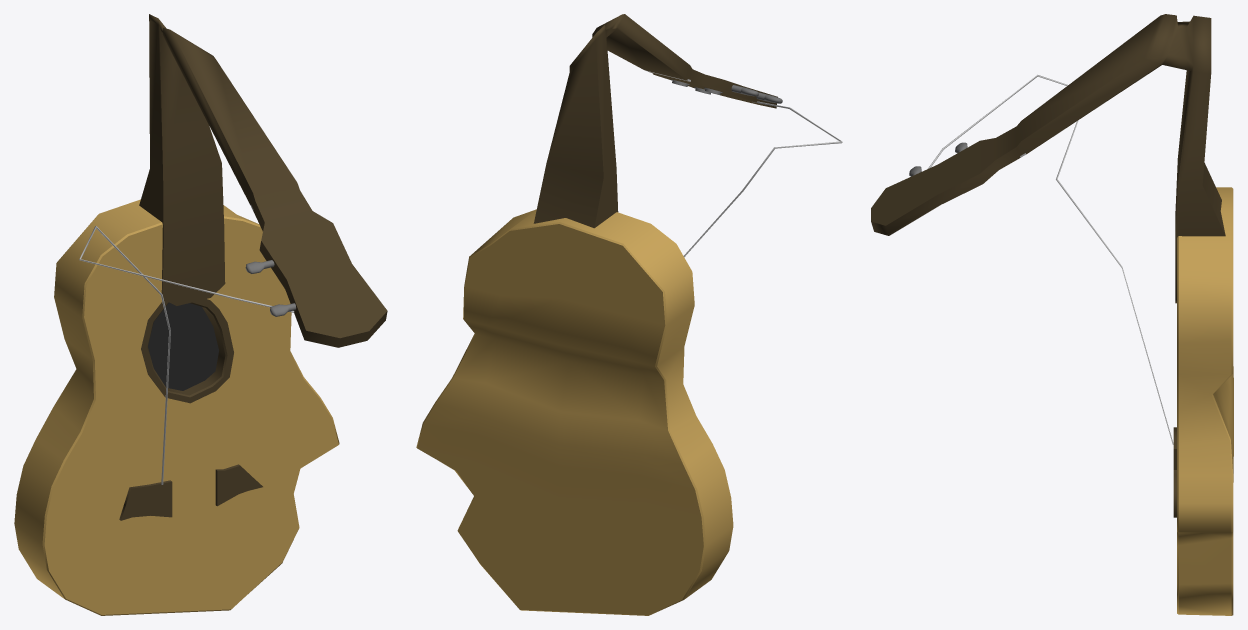
Rendered from Ukulele_Ruim.fbx.
The picture shows the model from 3 angles, left to right: view 1: azimuth 30°, elevation 25°; view 2: azimuth 150°, elevation 25°; view 3: azimuth 270°, elevation 25°; orthographic projection. The views are drawn at different scales.
Visible parts, largest first — view 1: Ukulele_Ruim; view 2: Ukulele_Ruim; view 3: Ukulele_Ruim.
Part boxes in pixels (x1,y1,x2,y2): Ukulele_Ruim: (14,14,387,615); Ukulele_Ruim: (416,14,842,615); Ukulele_Ruim: (871,14,1233,615).
Size of the model in its own units: 31.29 by 53.82 by 31.05.
